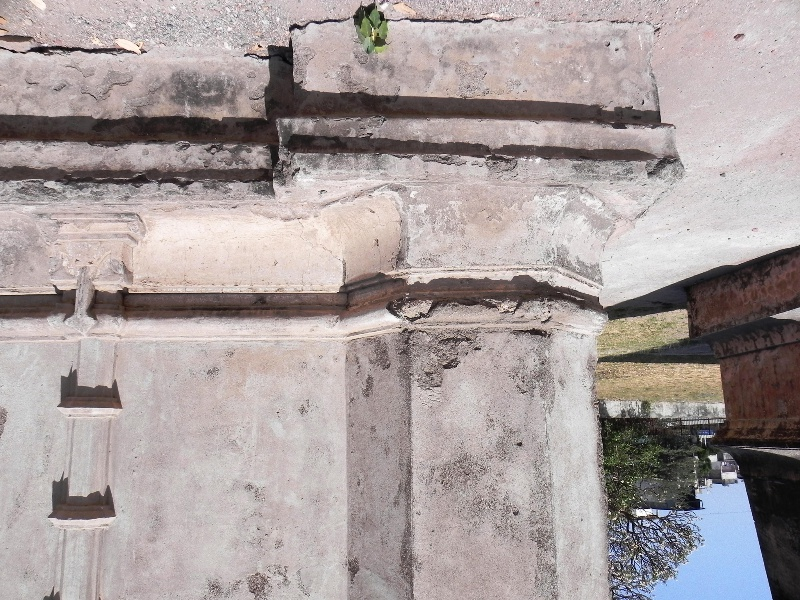Spalling: (377, 282, 563, 327), (388, 333, 476, 389)
